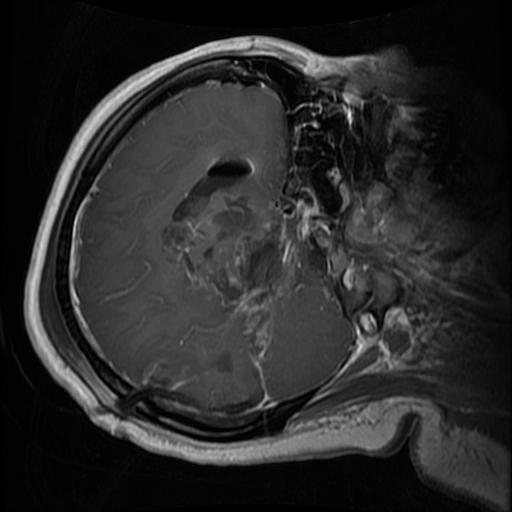glioma: (157, 156, 299, 373)
